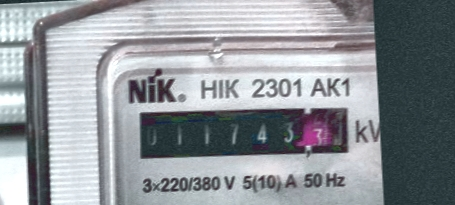0: (142, 118, 158, 146)
1: (169, 117, 185, 145), (197, 116, 212, 145)
3: (278, 116, 294, 143), (308, 124, 324, 146)
4: (253, 118, 268, 144)
7: (225, 118, 240, 143)
screen: (129, 93, 358, 170)
